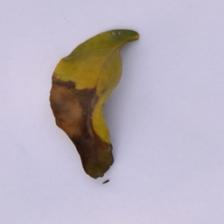black spot: (33, 85, 142, 169)
